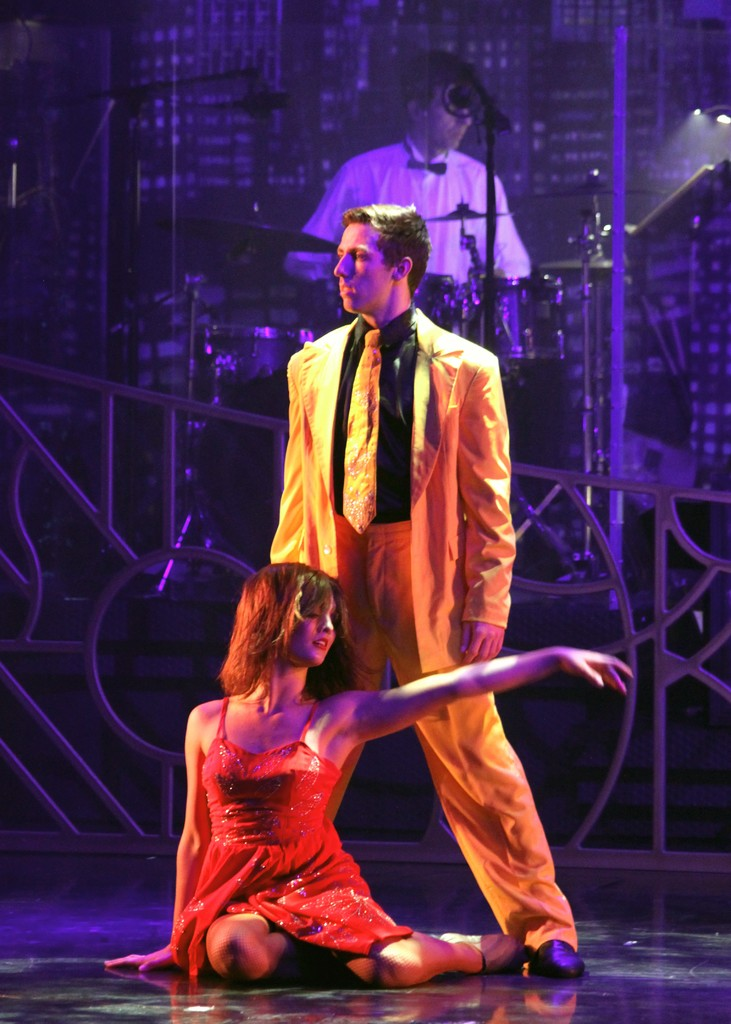Human-face: (333, 220, 387, 312), (289, 586, 339, 664), (431, 83, 471, 148)
